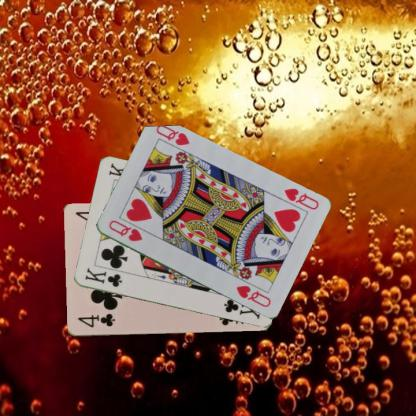4c: (75, 312, 116, 330)
Kc: (82, 265, 123, 289)
Qh: (281, 186, 319, 212), (106, 217, 143, 243)
